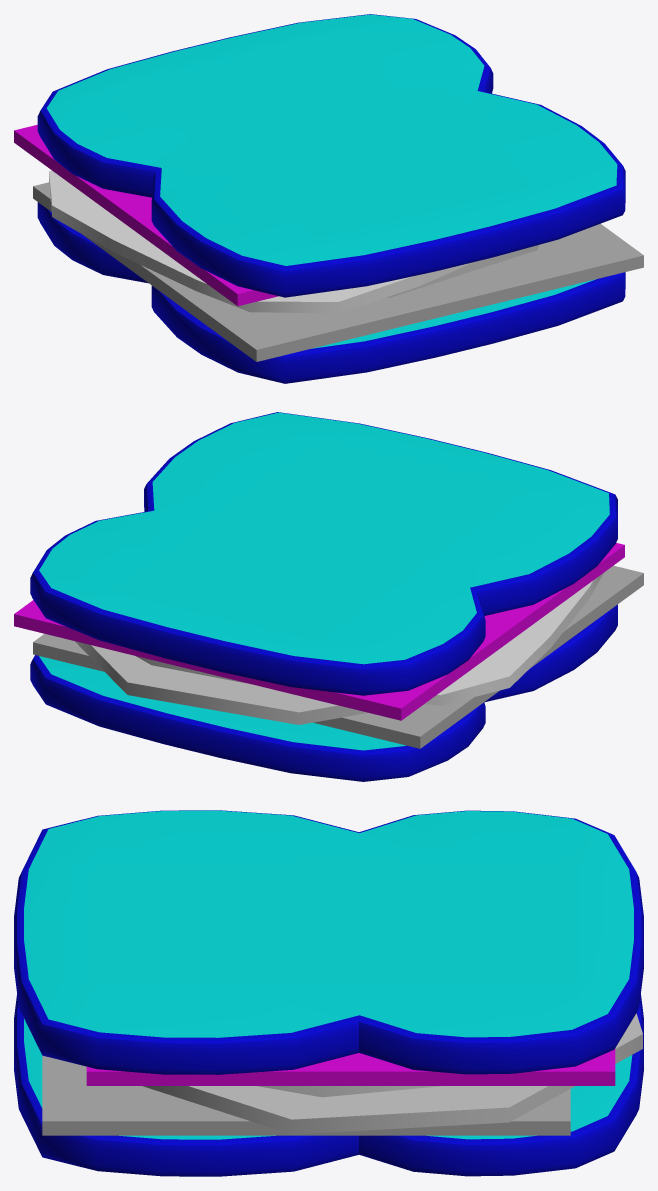
File: Sandwich.fbx
3 renders of one model, top to bottom at view 1: azimuth 30°, elevation 25°; view 2: azimuth 150°, elevation 25°; view 3: azimuth 270°, elevation 25°, orthographic. The views are drawn at different scales.
Visible parts, largest first — view 1: Sandwich; view 2: Sandwich; view 3: Sandwich.
Part boxes in pixels (<box>): Sandwich: <box>14,14,643,383</box>; Sandwich: <box>14,412,643,781</box>; Sandwich: <box>14,810,643,1176</box>.
Size of the model in its own units: 0.1834 by 0.0461 by 0.1899.
